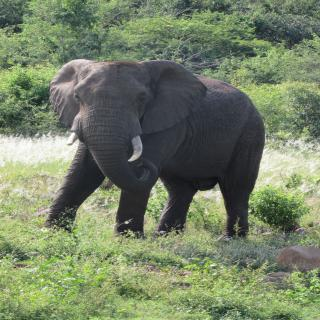Elephant: (42, 56, 268, 242)
